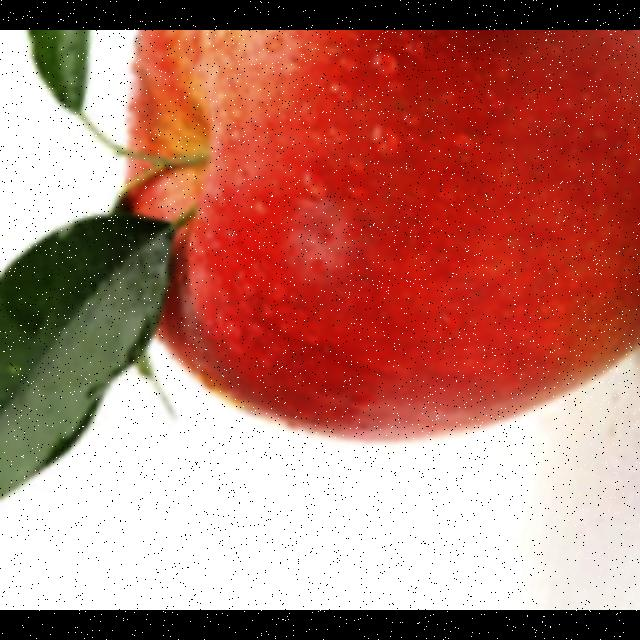Apel Segar: (122, 31, 640, 452)
